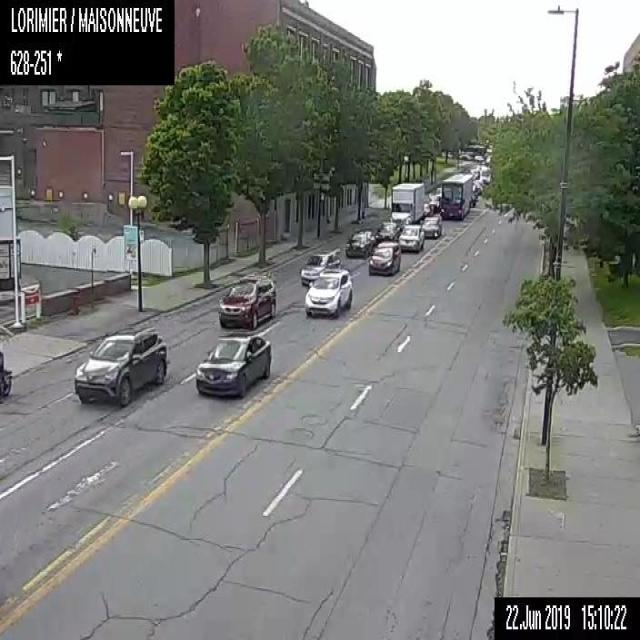bus: (439, 172, 472, 219)
vehicle: (72, 324, 166, 407), (194, 330, 270, 396), (218, 274, 276, 329), (304, 268, 352, 316), (389, 182, 424, 228), (300, 248, 339, 285), (368, 240, 400, 274), (345, 230, 372, 257), (399, 224, 424, 251), (0, 350, 12, 401), (374, 221, 399, 242), (419, 215, 441, 236), (421, 201, 432, 216)
